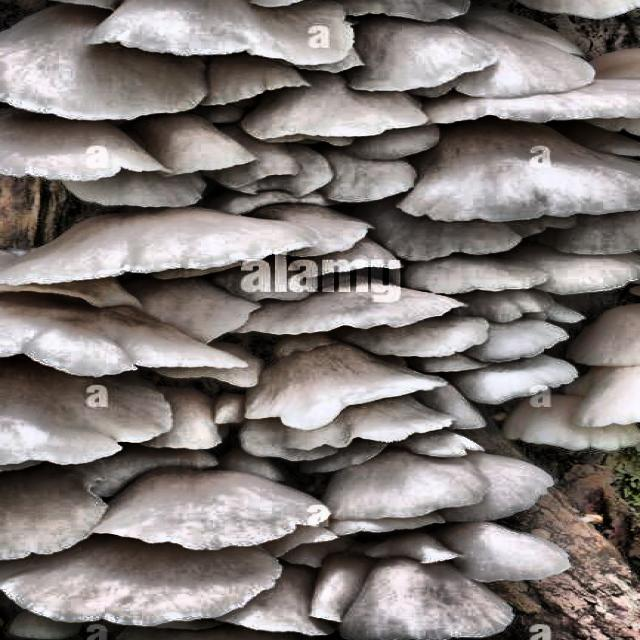Healthy-Affected: (0, 407, 296, 575), (117, 170, 433, 308)
